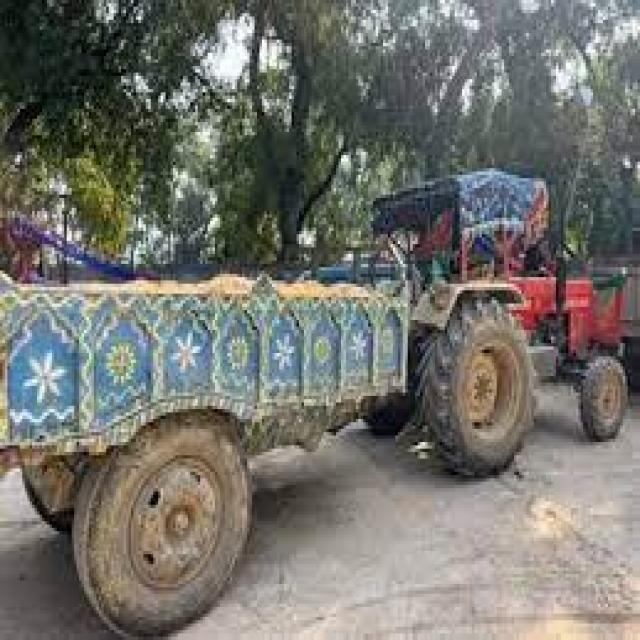uncovered: (0, 251, 421, 567)
